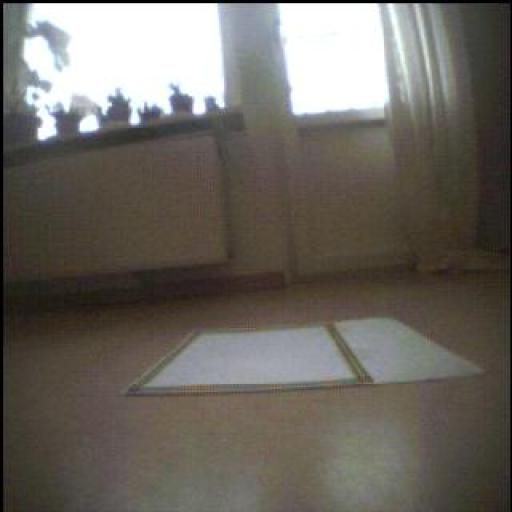Pad: (129, 320, 483, 397)
